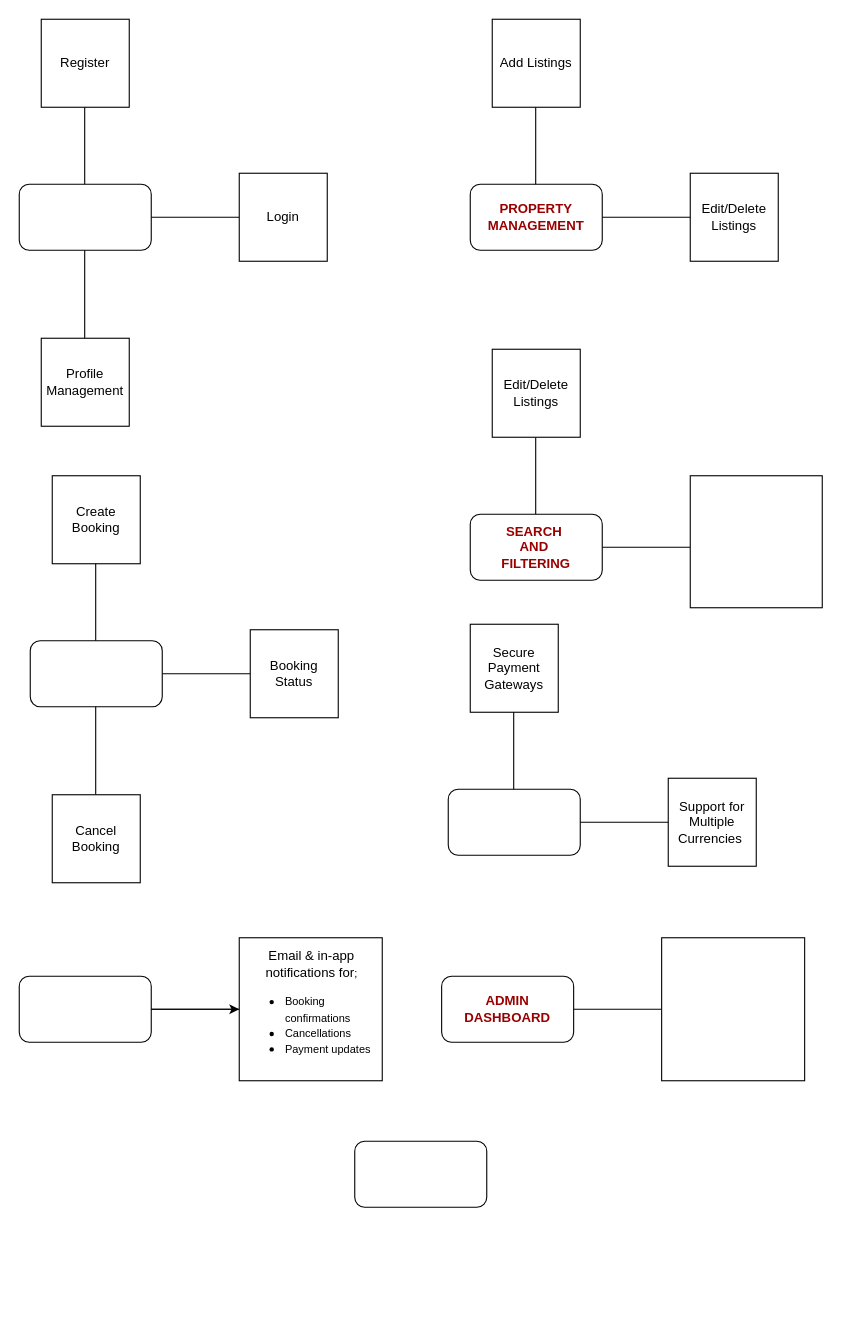
This 842x1337 diagram has some shape labels left out. The centre of each missing label's shape, as x and y in pixels:
Admin interface for monitoring & managing ; Users Listings Bookings Payments: the point at 733,1009
BOOKING MANAGEMENT: the point at 95,673
NOTIFICATIONS SYSTEM: the point at 84,1008
PAYMENT INTEGRATION: the point at 513,821
REVIEWS AND RATINGS: the point at 420,1173
Search by ; Location Price range Number of guests Amenities: the point at 755,541
USER MANAGEMENT: the point at 84,216
